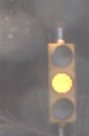Yellow: (43, 33, 82, 132)
